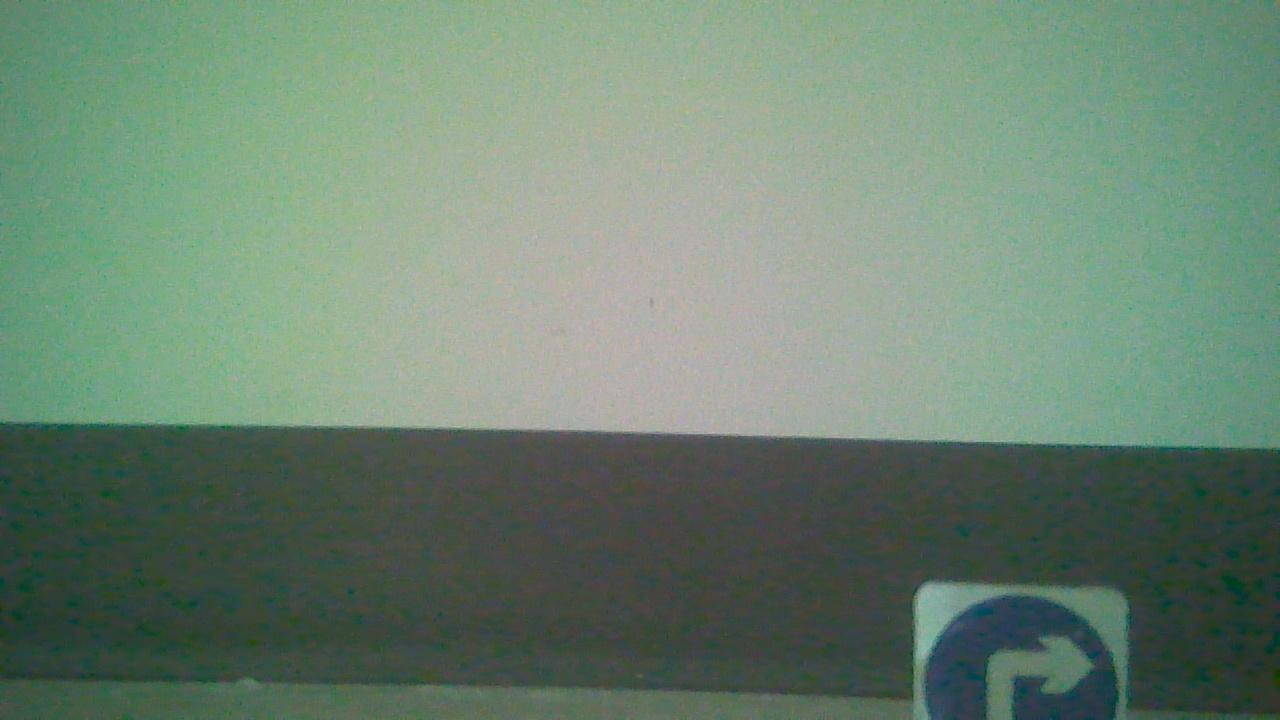turn: (914, 583, 1131, 720)
